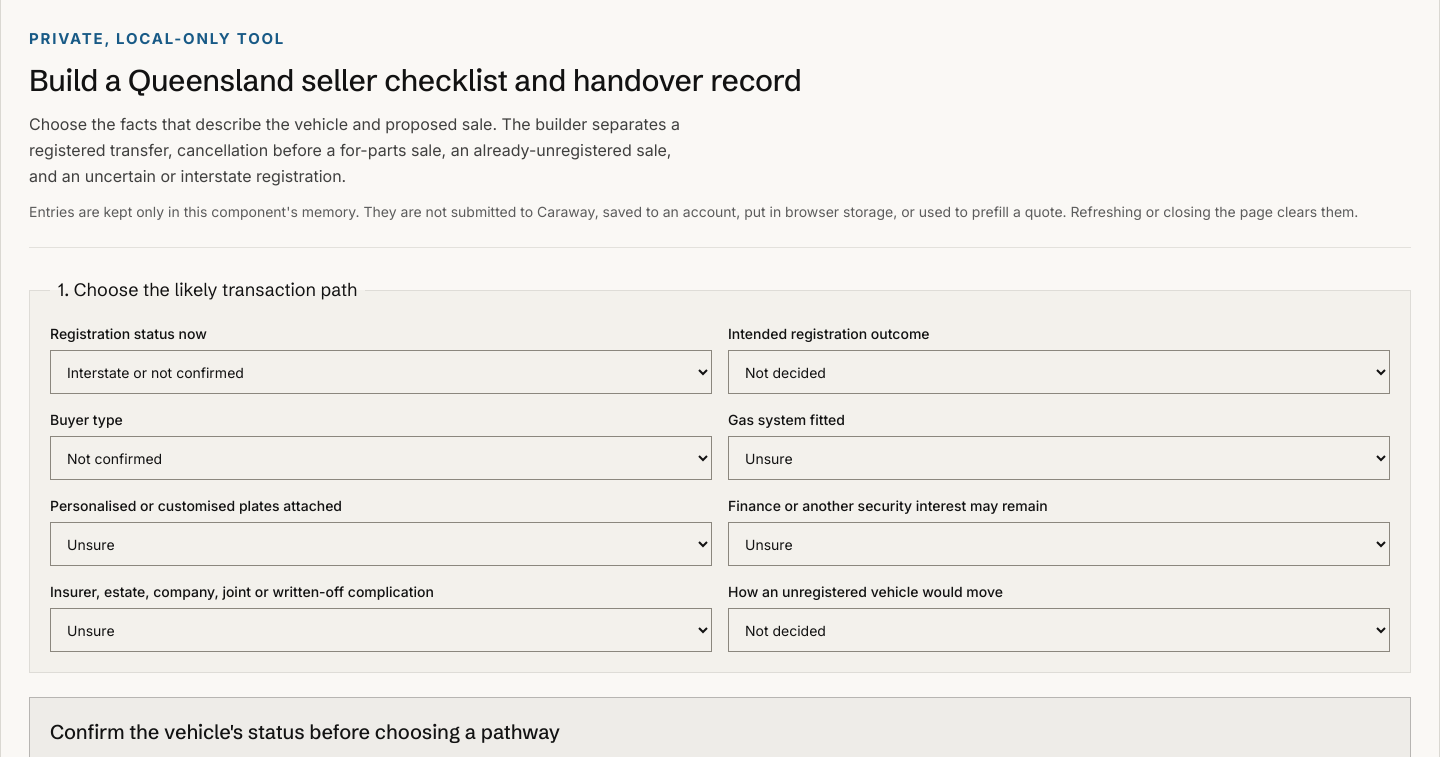
Scenario: QldVehicleSaleRecordBuilder › clears both pathway selections and handover entries
The image size is (1440, 757).
Step 1. Select "Currently registered in Queensland" in the dropdown labelled "Registration status now" → (381, 372), box [50,350,712,394]
(page scrolled)
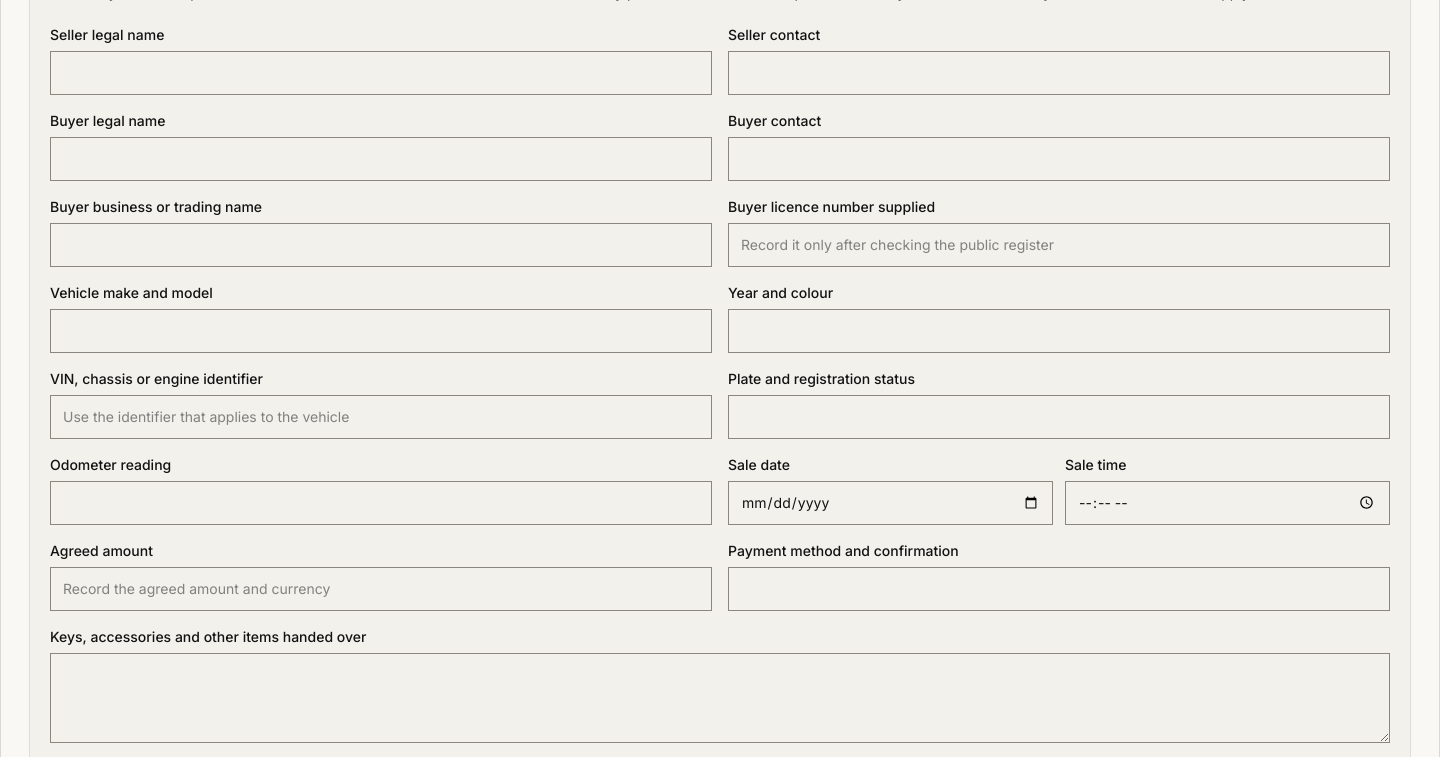
Step 2. Type "Toyota Camry" into the field labelled "Vehicle make and model" → (381, 331), box [50,309,712,353]
(page scrolled)
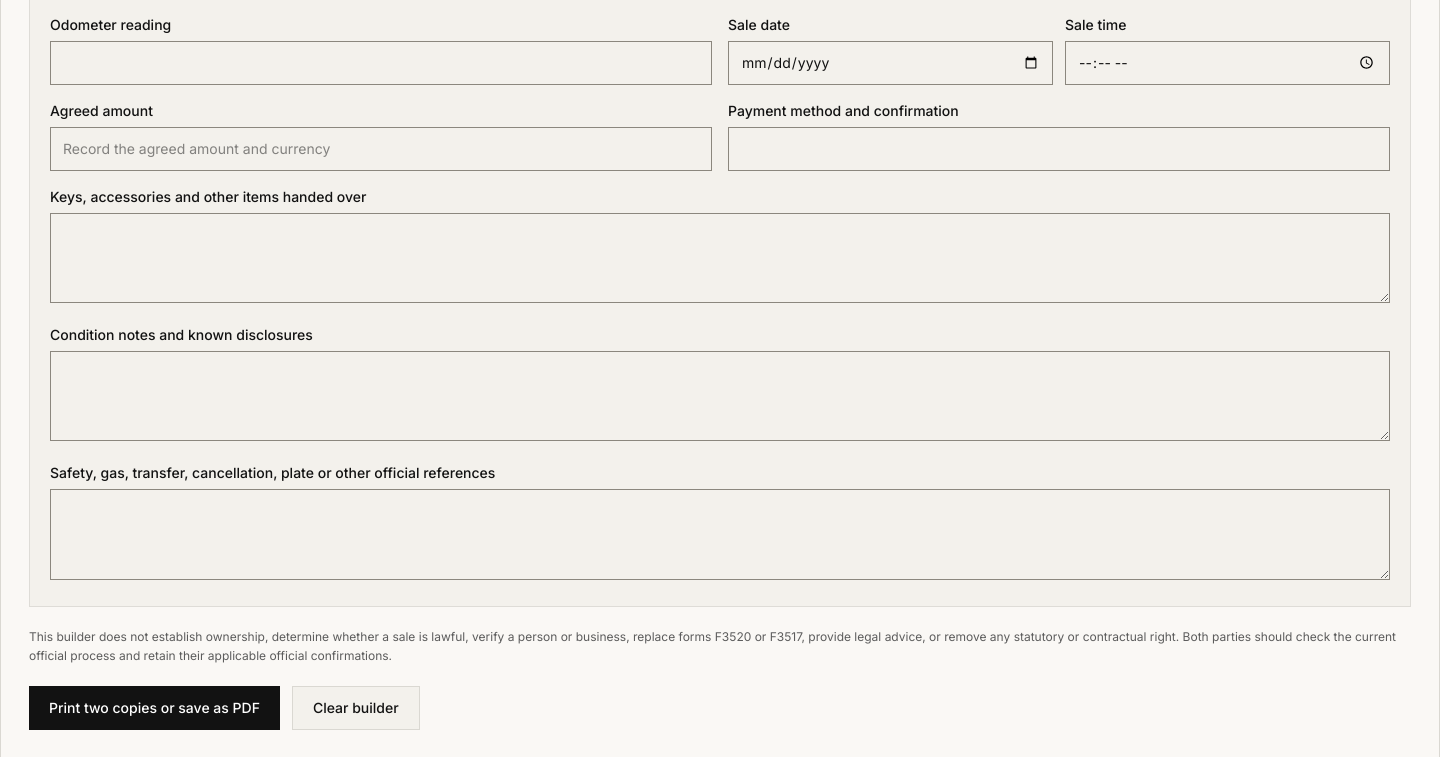
Step 3. Click the button "Clear builder" → (356, 708), box [292,686,420,730]
(page scrolled)
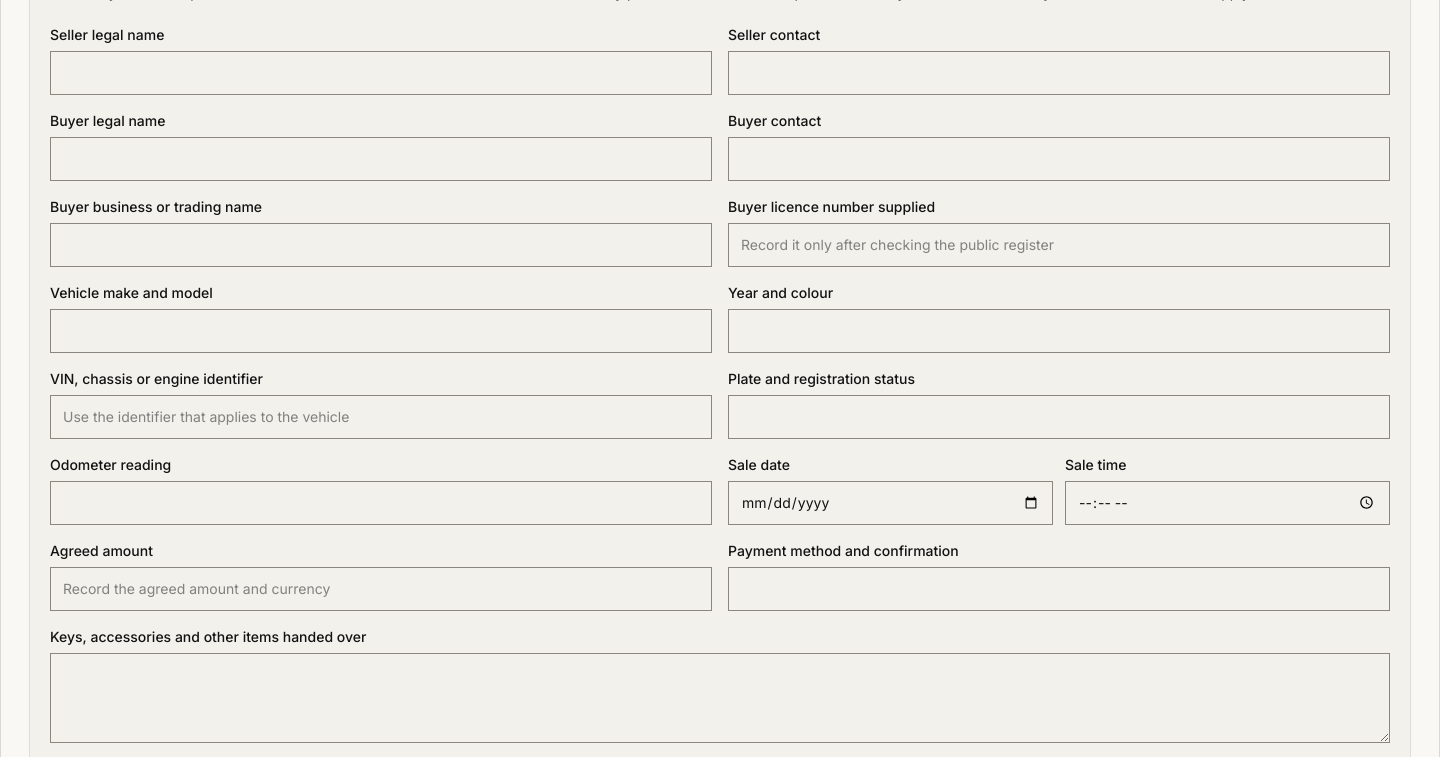
Expected: the field labelled "Vehicle make and model" is empty, [50,308,712,352]
